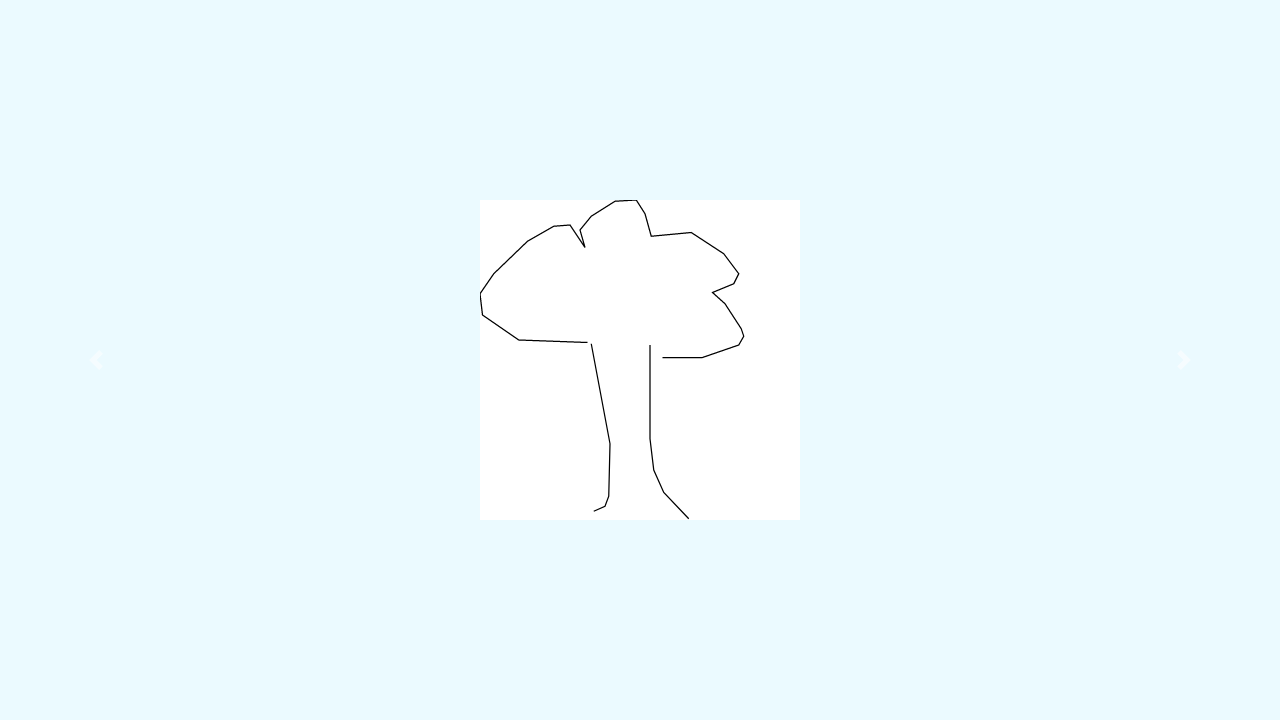tree: (474, 192, 750, 527)
